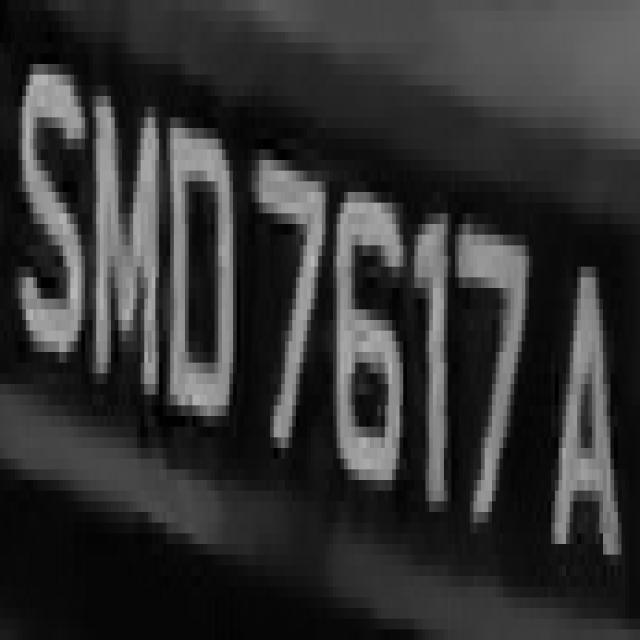1: (411, 171, 458, 576)
6: (325, 128, 407, 512)
7: (448, 181, 536, 544), (248, 107, 325, 469)
A: (548, 192, 625, 587)
D: (159, 107, 241, 448)
M: (85, 54, 163, 438)
S: (15, 53, 81, 363)
